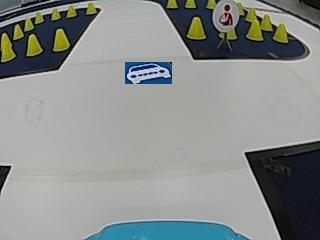cone: (187, 17, 206, 39), (0, 33, 15, 60), (52, 28, 69, 51), (246, 18, 263, 40), (26, 34, 43, 55), (273, 23, 288, 43), (261, 13, 271, 30), (85, 2, 97, 15), (13, 24, 24, 38), (66, 5, 77, 18), (50, 8, 61, 20), (24, 18, 34, 30), (34, 11, 44, 23), (166, 0, 178, 9), (185, 0, 196, 9), (205, 0, 216, 9)
patient: (213, 1, 237, 29)
